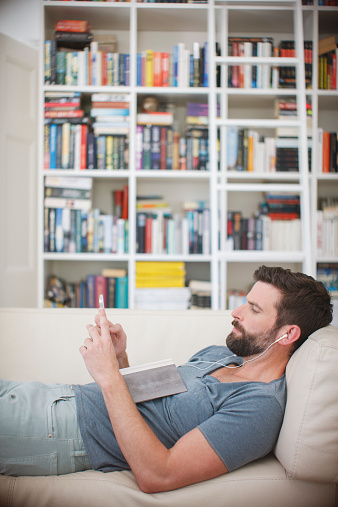deitado: (43, 247, 321, 499)
